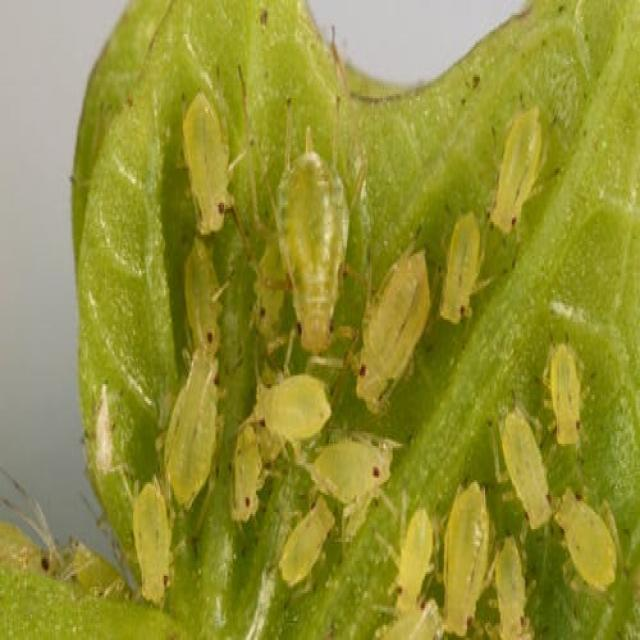aphid: (277, 150, 349, 351), (356, 250, 430, 411), (165, 348, 217, 507), (445, 482, 489, 634), (182, 92, 228, 234), (491, 106, 541, 232), (555, 488, 615, 588), (503, 408, 551, 528), (309, 440, 391, 503), (279, 496, 335, 584), (257, 375, 330, 441), (134, 483, 171, 603), (440, 212, 480, 322), (185, 238, 220, 353), (396, 508, 433, 612), (495, 538, 531, 638), (231, 423, 263, 520), (254, 233, 288, 324), (550, 343, 580, 442), (376, 598, 443, 639)
